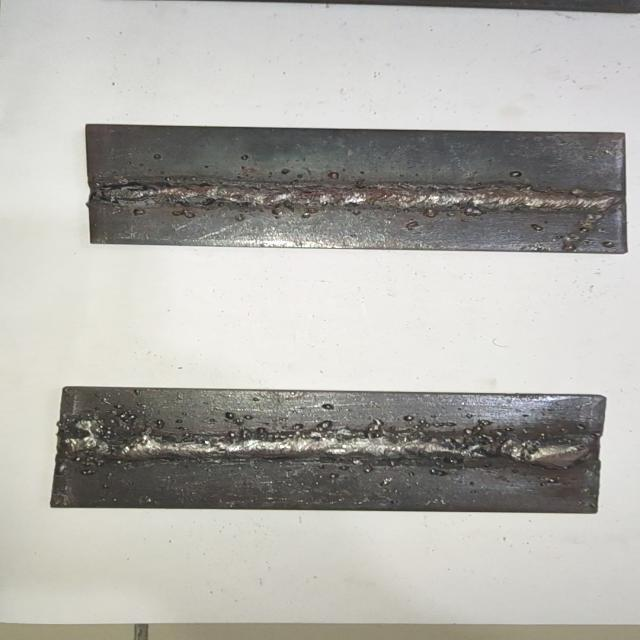Defect: (59, 412, 172, 476), (448, 422, 541, 474), (90, 171, 180, 215)
Welding Line: (67, 432, 602, 468), (92, 180, 620, 212)
Workpiece: (44, 385, 610, 517), (80, 122, 634, 256)
